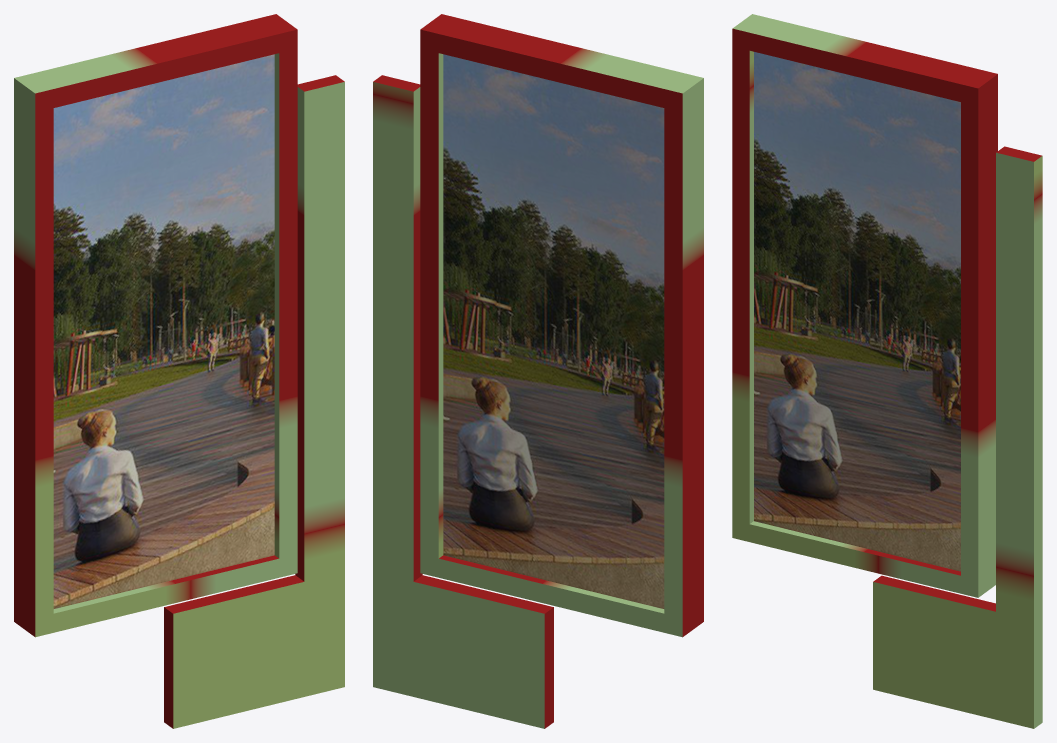
File: SM_ParkStand_v01.fbx
3 renders of one model, left to right at view 1: azimuth 30°, elevation 25°; view 2: azimuth 150°, elevation 25°; view 3: azimuth 330°, elevation 25°, orthographic. The views are drawn at different scales.
Visible parts, largest first — view 1: ParkStand_v01; view 2: ParkStand_v01; view 3: ParkStand_v01.
Boxes of the visible parts, box(x1,y1,x2,y2) form: ParkStand_v01: box(14, 14, 344, 728); ParkStand_v01: box(373, 14, 703, 728); ParkStand_v01: box(732, 14, 1042, 728).
Size of the model in its own units: 1.2 by 2.46 by 0.14.
2 materials, 2 textured.
